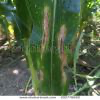Corn leaf blight: (27, 0, 80, 96)
